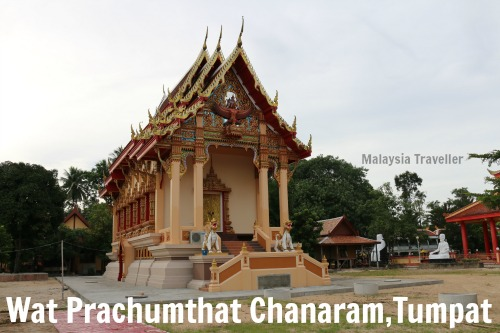Buddhist Temple: (108, 18, 296, 295)
